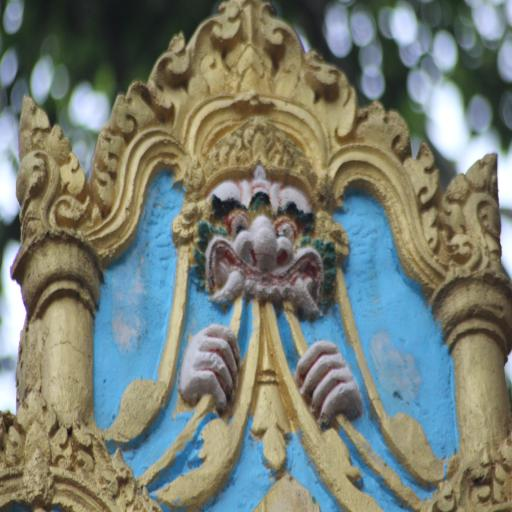la: (302, 33, 414, 155), (12, 101, 92, 237), (87, 78, 166, 214), (116, 26, 212, 127), (203, 0, 300, 99), (444, 144, 512, 280), (405, 124, 455, 263)
than: (176, 168, 358, 446)
